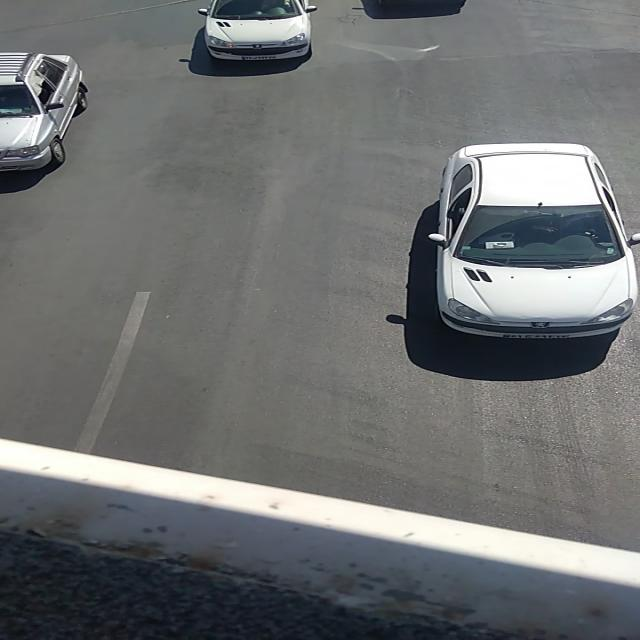car: (430, 144, 638, 340), (1, 51, 91, 176), (198, 0, 316, 60)
